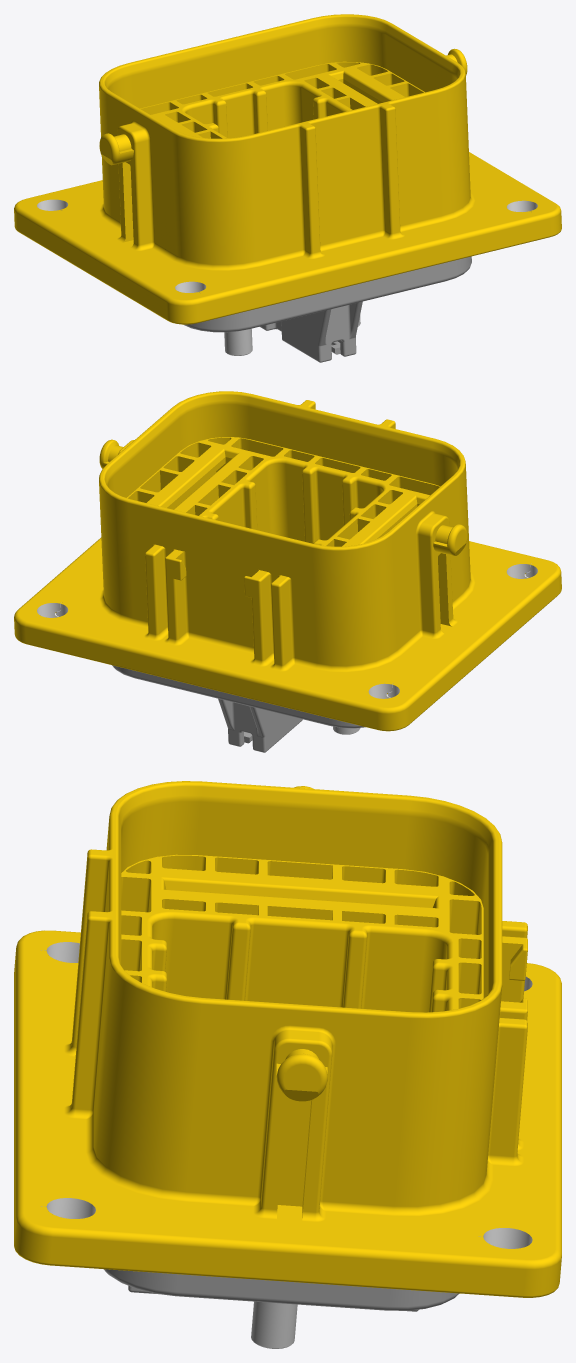
Rendered from DLQ5-Z.glb.
3 renders of one model, top to bottom at view 1: azimuth 30°, elevation 25°; view 2: azimuth 150°, elevation 25°; view 3: azimuth 270°, elevation 25°, orthographic. The views are drawn at different scales.
Visible parts, largest first — view 1: DLQ5-Z (2); view 2: DLQ5-Z (2); view 3: DLQ5-Z (2).
Boxes of the visible parts, bbox=[...] form: DLQ5-Z (2): bbox=[14, 14, 561, 362]; DLQ5-Z (2): bbox=[14, 391, 561, 752]; DLQ5-Z (2): bbox=[14, 781, 561, 1348].
Bounding box in the file's own units: 9.8 × 6.31 × 7.51.
